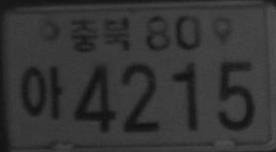0: (174, 13, 201, 51)
1: (168, 61, 208, 131)
2: (121, 62, 160, 132)
4: (72, 64, 117, 133)
5: (216, 60, 255, 132)
8: (144, 13, 171, 51)
아: (19, 64, 64, 119)
충북_H: (69, 16, 130, 52)
